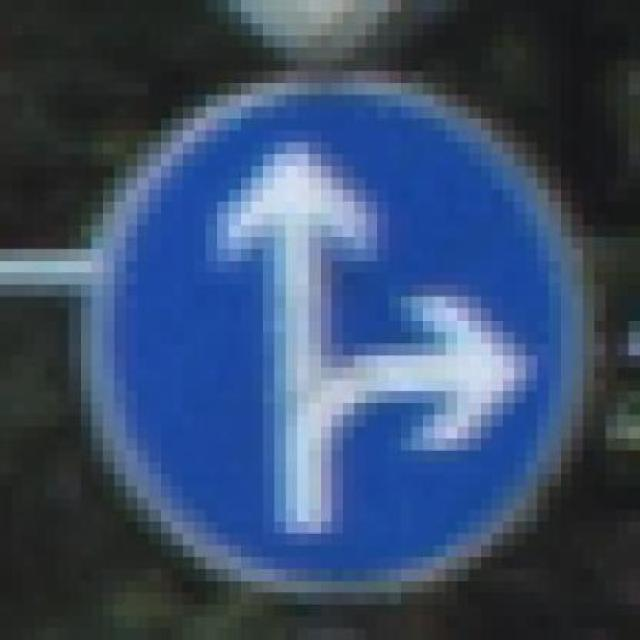Go Straight or Turn Right: (45, 71, 606, 617)
